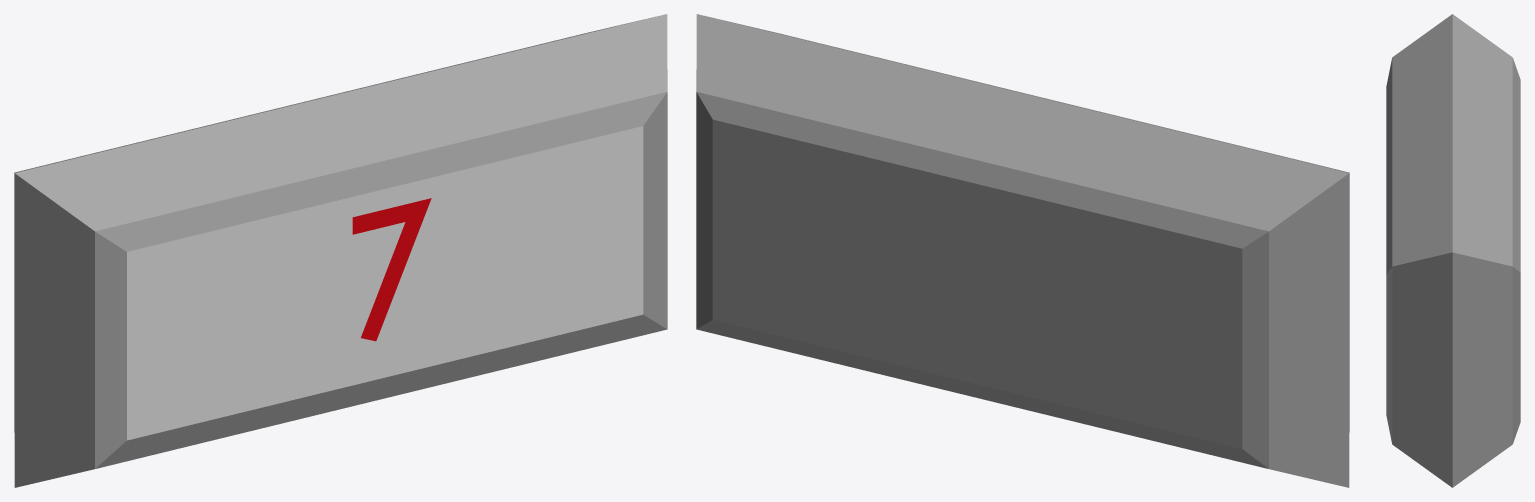
File: number7.fbx
The picture shows the model from 3 angles, left to right: view 1: azimuth 30°, elevation 25°; view 2: azimuth 150°, elevation 25°; view 3: azimuth 270°, elevation 25°; orthographic projection. The views are drawn at different scales.
Parts seen in each view (by area): view 1: Cube, Text; view 2: Cube; view 3: Cube.
Part boxes in pixels (x1,y1,x2,y2): Cube: (14,14,667,487); Text: (352,198,431,341); Cube: (696,14,1349,487); Cube: (1386,14,1520,487).
Bounding box in the file's own units: 1735 × 800 × 437.
